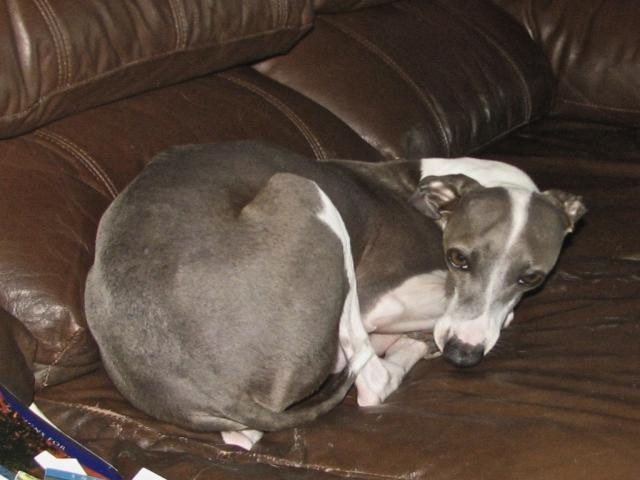Dog: (84, 144, 590, 451)
